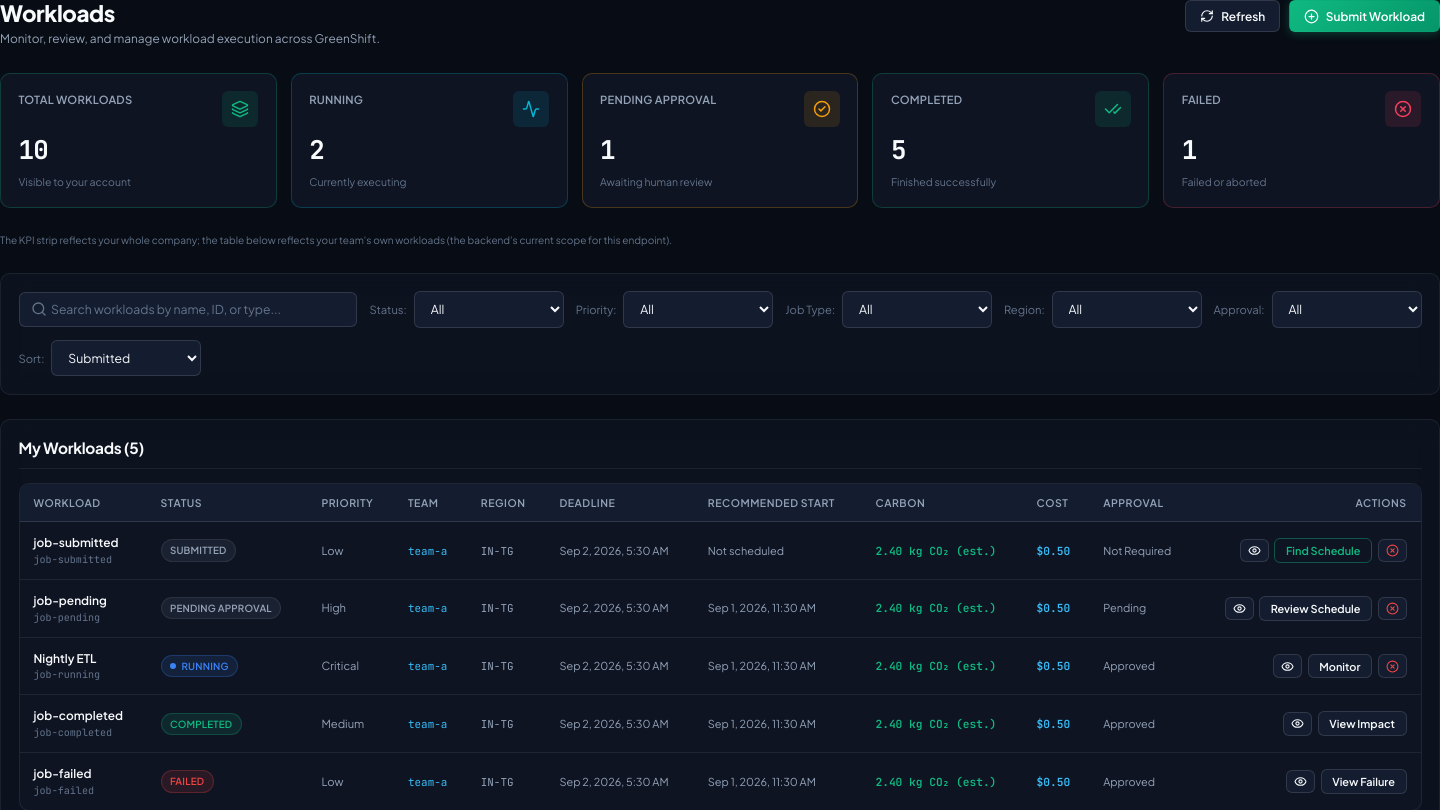
Test: WorkloadsPage › filters by status
Select "FAILED" in the dropdown named "filter by status": (489, 309) [414,291,564,328]
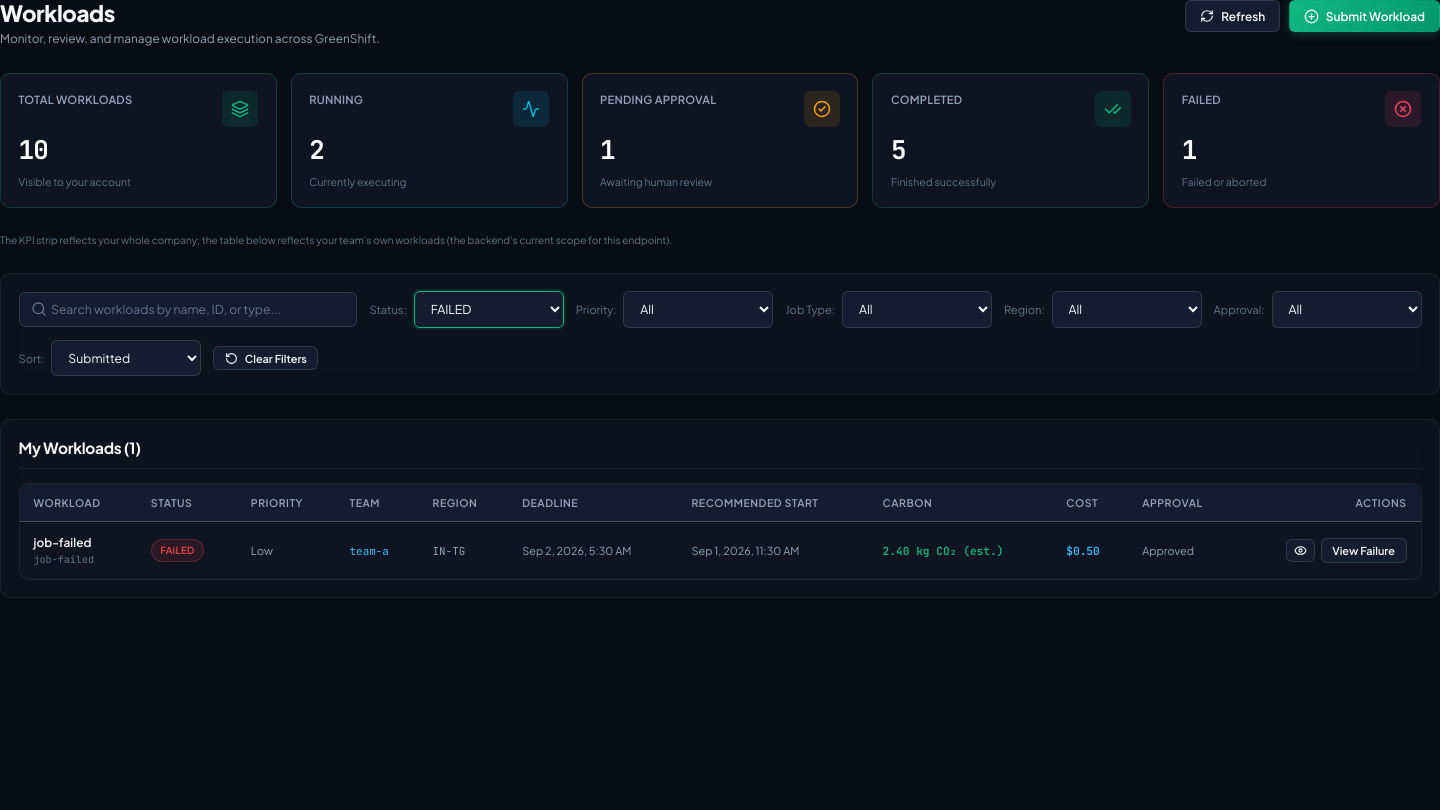
Expected: the row with test id "workload-row-job-failed" is shown, [20,522,1420,579]
Expected: the row with test id "workload-row-job-running" is gone
